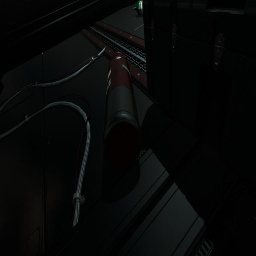0: (133, 0, 143, 16)
NitrogenTank ,: (103, 52, 142, 171)
